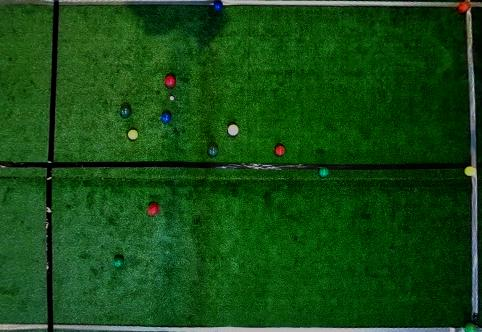blue: (161, 112, 171, 123), (213, 1, 223, 11)
green: (207, 145, 219, 157), (120, 106, 131, 118), (318, 166, 329, 178), (463, 322, 477, 331), (114, 257, 124, 268)
red: (165, 75, 177, 88), (458, 1, 470, 13), (228, 124, 239, 136), (274, 145, 286, 156), (148, 203, 159, 215)
vline: (1, 0, 59, 331), (464, 13, 481, 167), (470, 177, 481, 325)
white: (169, 96, 174, 101)
yellow: (127, 129, 139, 140), (463, 166, 476, 176)
